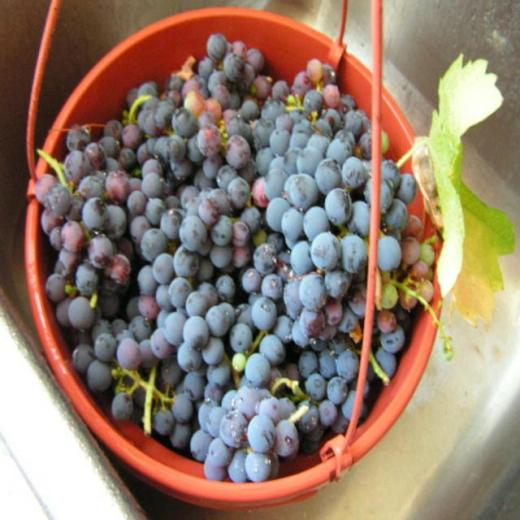Orange: (36, 33, 434, 481)
